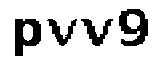9: (115, 5, 152, 54)
p: (14, 14, 45, 60)
v: (80, 16, 113, 52), (46, 16, 78, 47)
